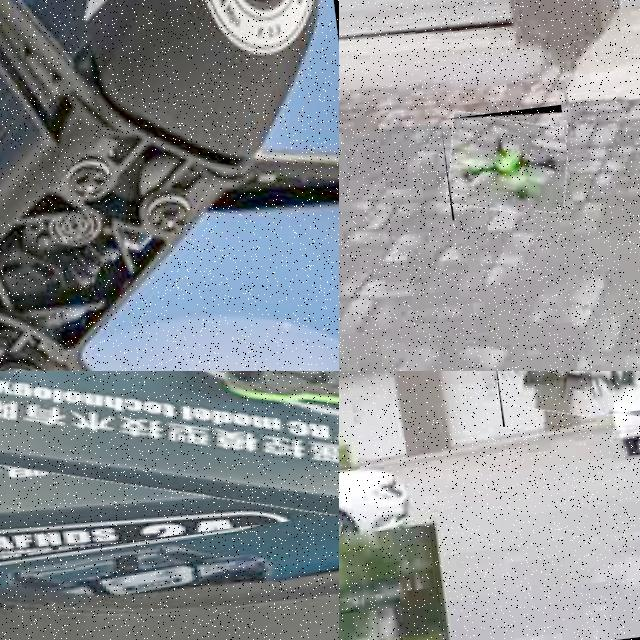0: (439, 104, 574, 220), (491, 371, 640, 426)
drone: (0, 0, 339, 371), (0, 371, 339, 557)
